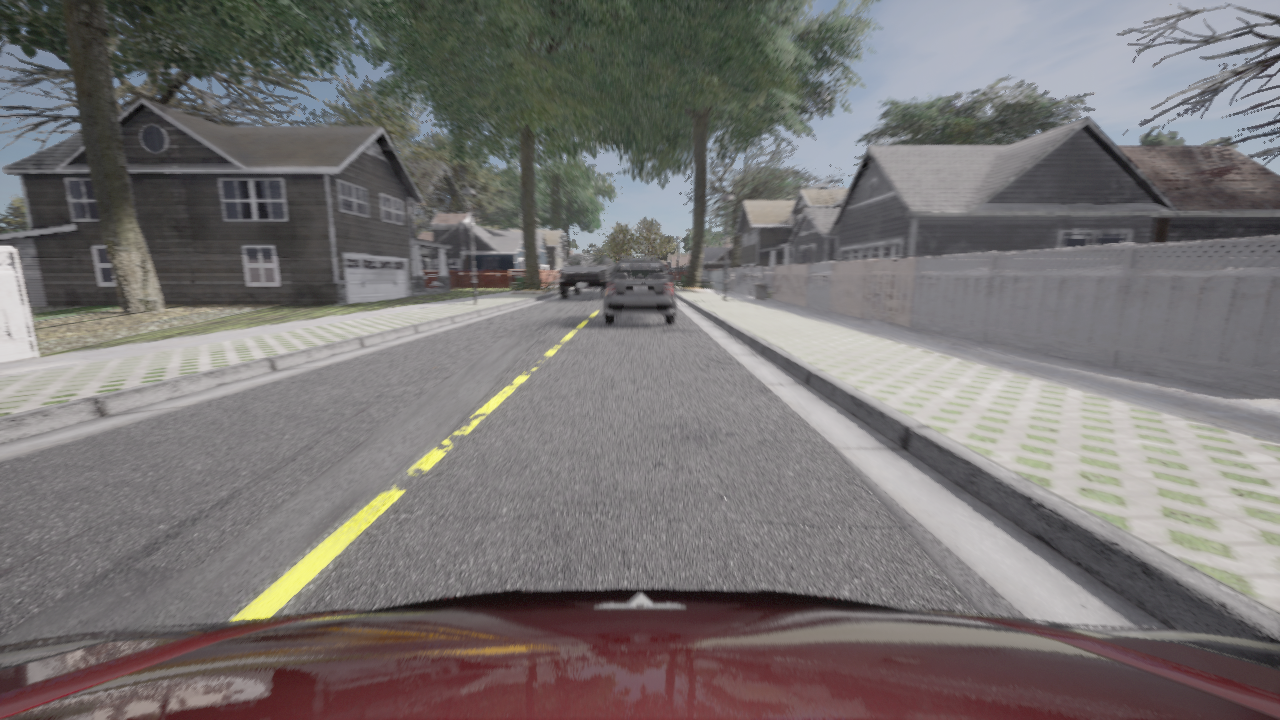cyclist: (0, 588, 1279, 719), (604, 260, 675, 324), (558, 255, 615, 299)
